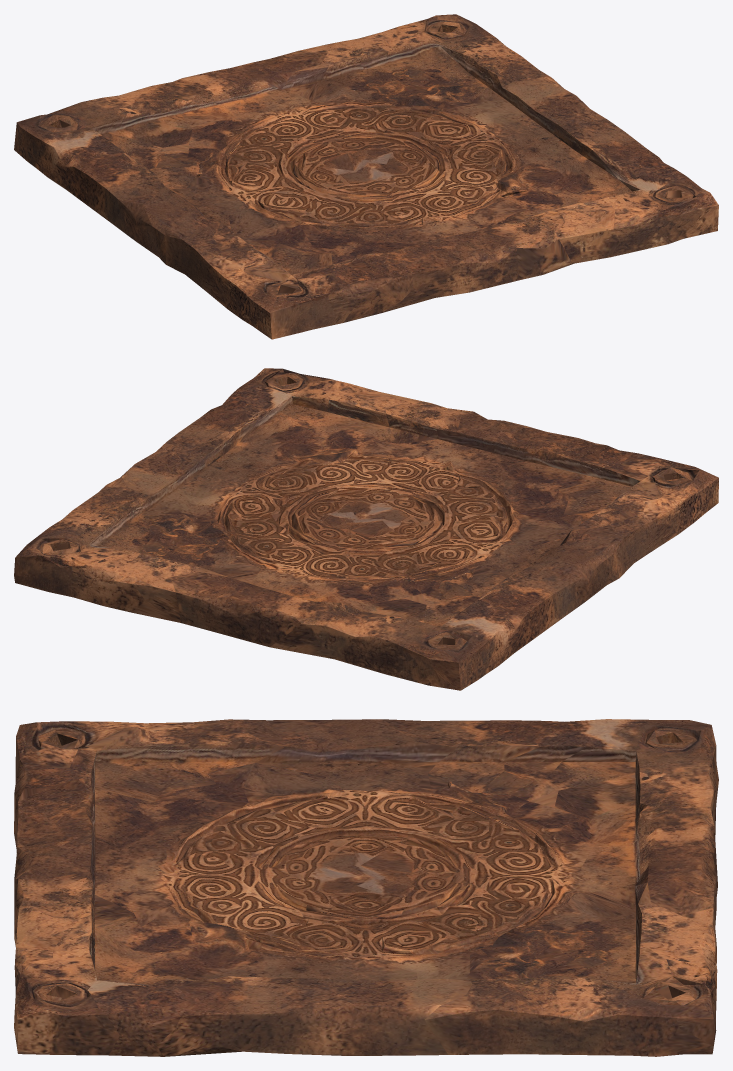
The model's file is medallion.glb.
The picture shows the model from 3 angles, top to bottom: view 1: azimuth 30°, elevation 25°; view 2: azimuth 150°, elevation 25°; view 3: azimuth 270°, elevation 25°; orthographic projection. The views are drawn at different scales.
Visible parts, largest first — view 1: mesh_node; view 2: mesh_node; view 3: mesh_node.
Boxes of the visible parts, x1,y1,x2,y2 form: mesh_node: (14, 14, 718, 339); mesh_node: (14, 368, 718, 690); mesh_node: (14, 719, 718, 1056).
Size of the model in its own units: 1.89 by 0.1591 by 1.9.
Materials: 1 (1 with a texture image).
